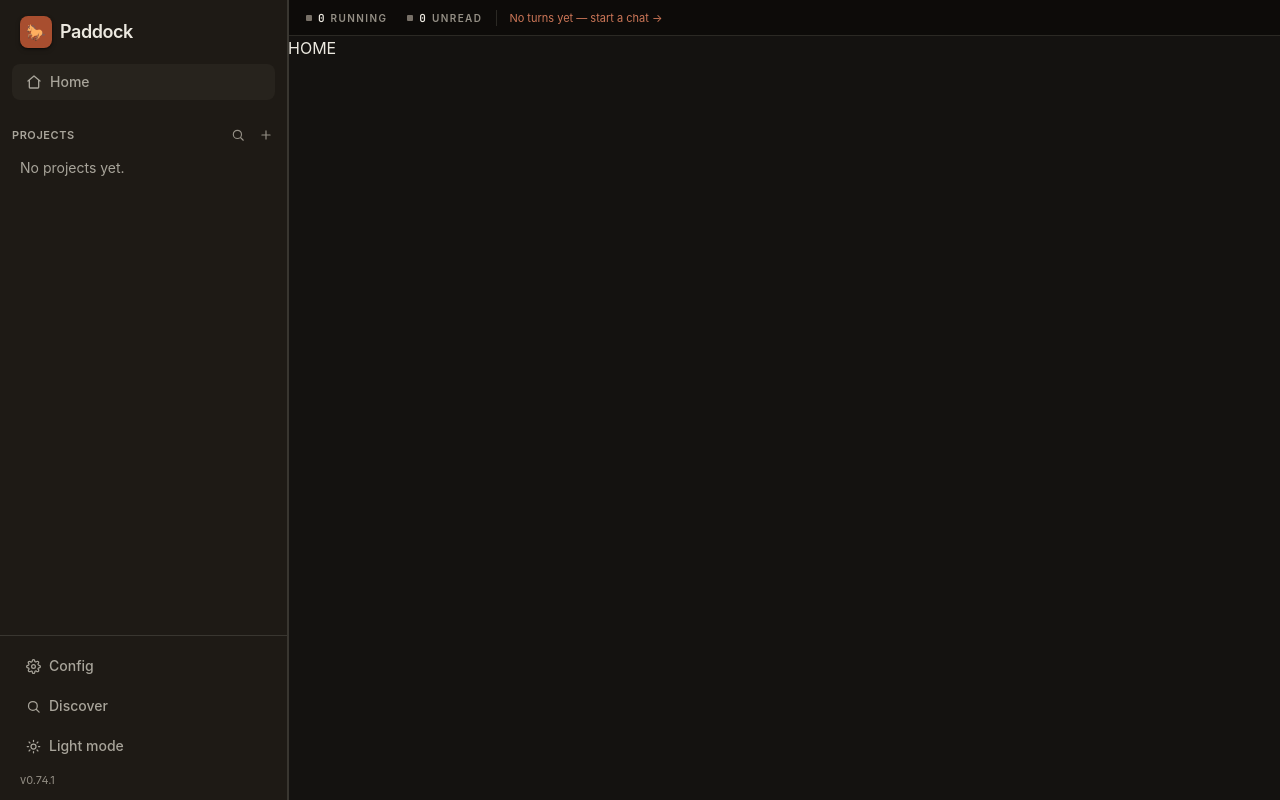
it: AppShell: New Project (#599) › on create, folds the project into the sidebar context and lands in its chat
The width and height of the screenshot is (1280, 800).
Click the button named "New Project" at (266,135), box [253, 124, 279, 146]
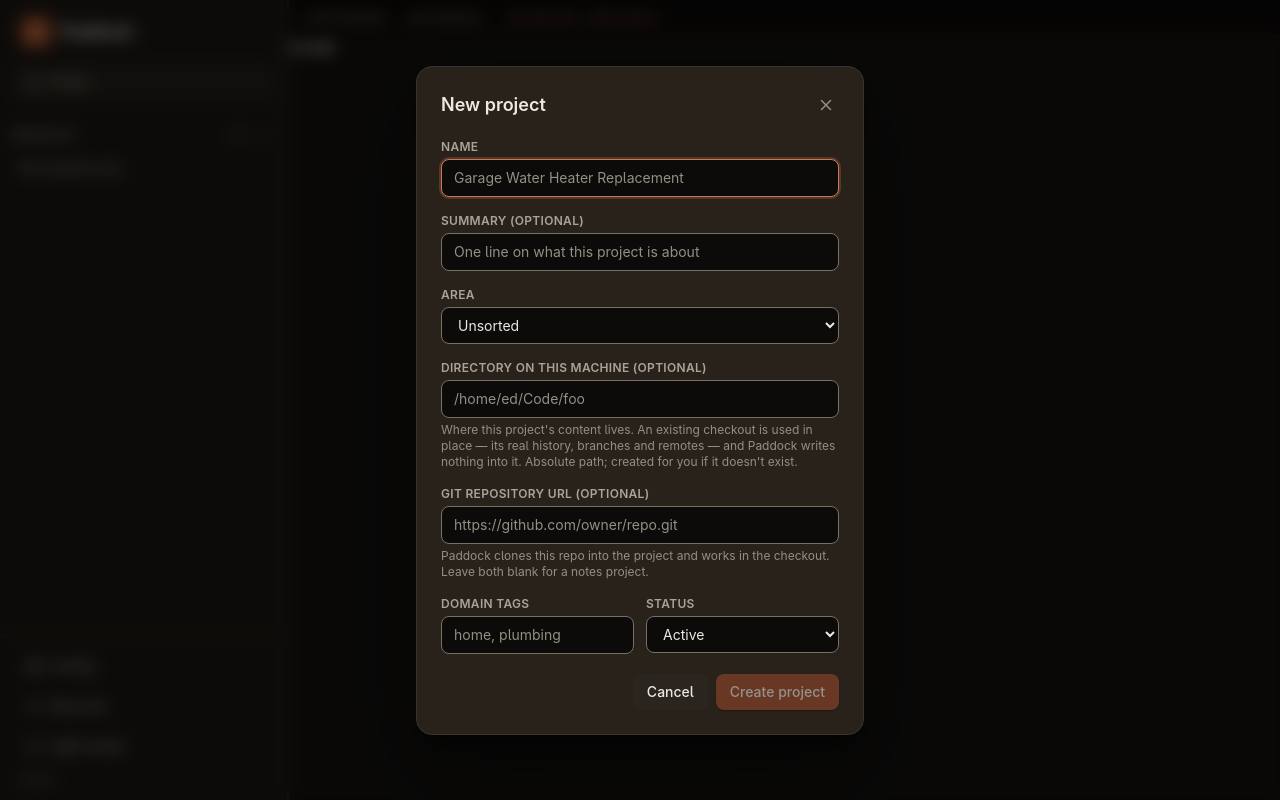
Type "Kiln" into the field with placeholder "Garage Water Heater Replacement" at (640,178), box [441, 158, 839, 196]
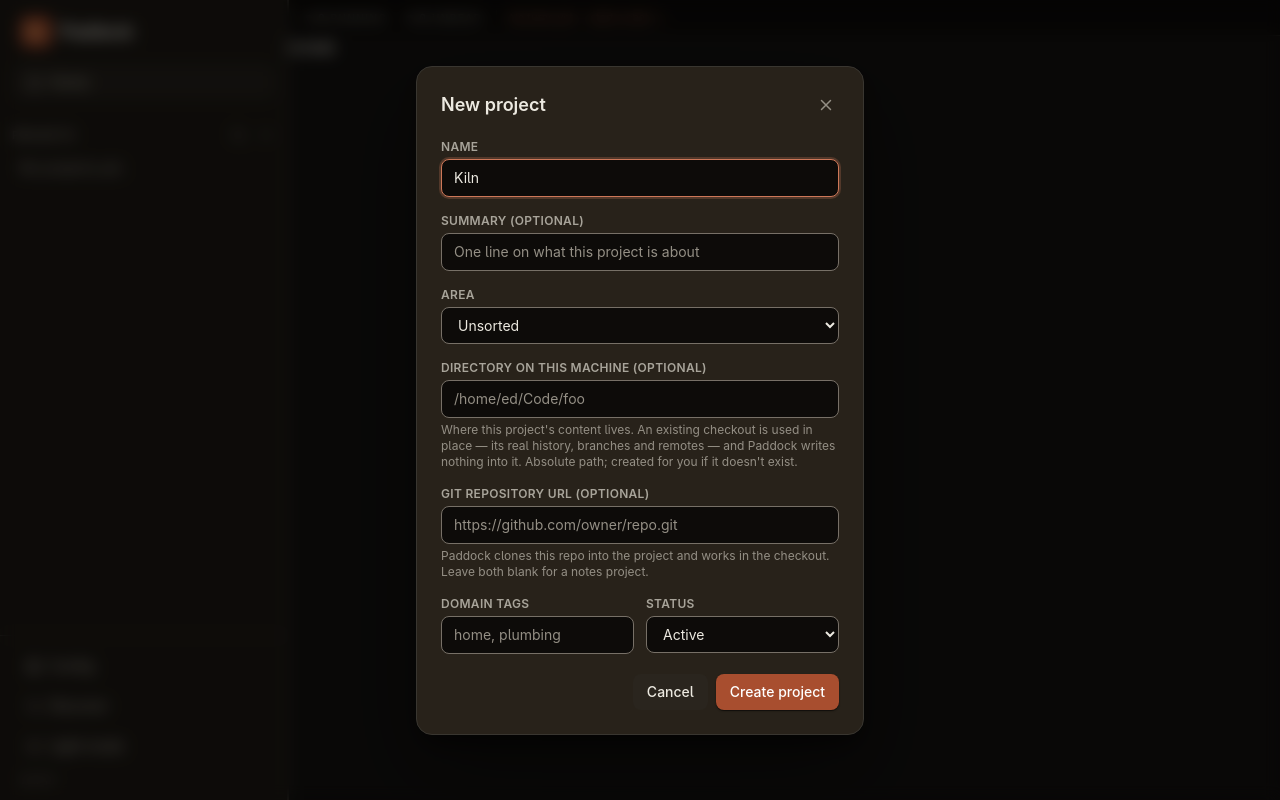
Click the button "Create project" at (777,692), box [716, 674, 839, 710]
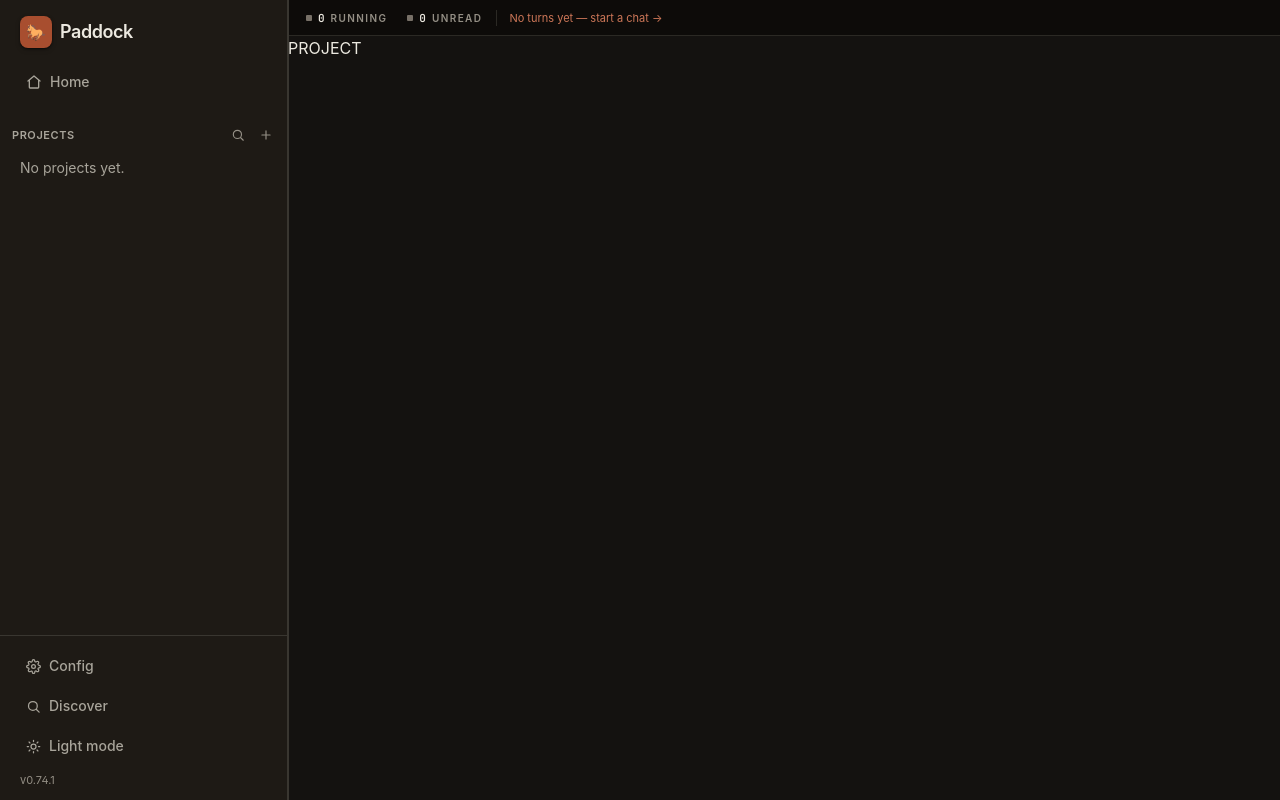
expect the text "PROJECT" is shown: met, box [288, 38, 362, 58]
expect the heading "New project" is gone: met
